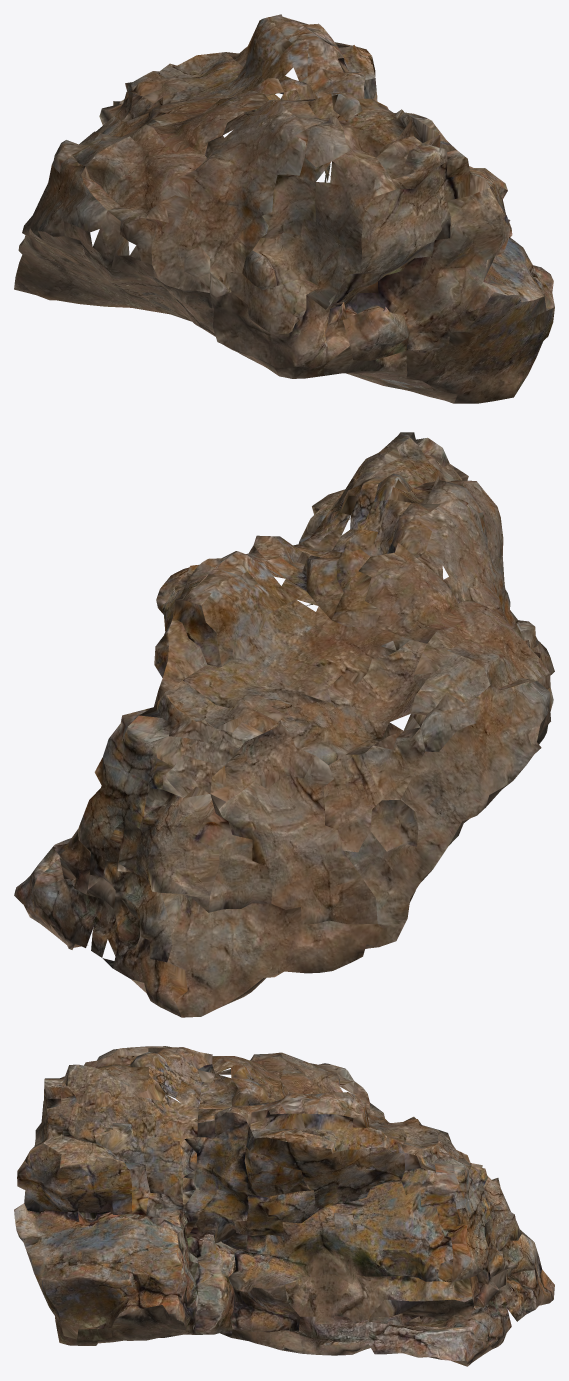
File: boulder.glb
3 views of the same model, one above another, from view 1: azimuth 30°, elevation 25°; view 2: azimuth 150°, elevation 25°; view 3: azimuth 270°, elevation 25° (orthographic). The views are drawn at different scales.
Visible parts, largest first — view 1: boulder_01; view 2: boulder_01; view 3: boulder_01.
Boxes of the visible parts, bbox=[...] form: boulder_01: bbox=[14, 14, 554, 403]; boulder_01: bbox=[14, 432, 554, 1017]; boulder_01: bbox=[14, 1046, 554, 1366].
Size of the model in its own units: 1.26 by 0.9737 by 1.81.
Materials: 1 (1 with a texture image).
